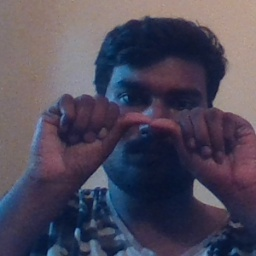A: (71, 92, 226, 193)
